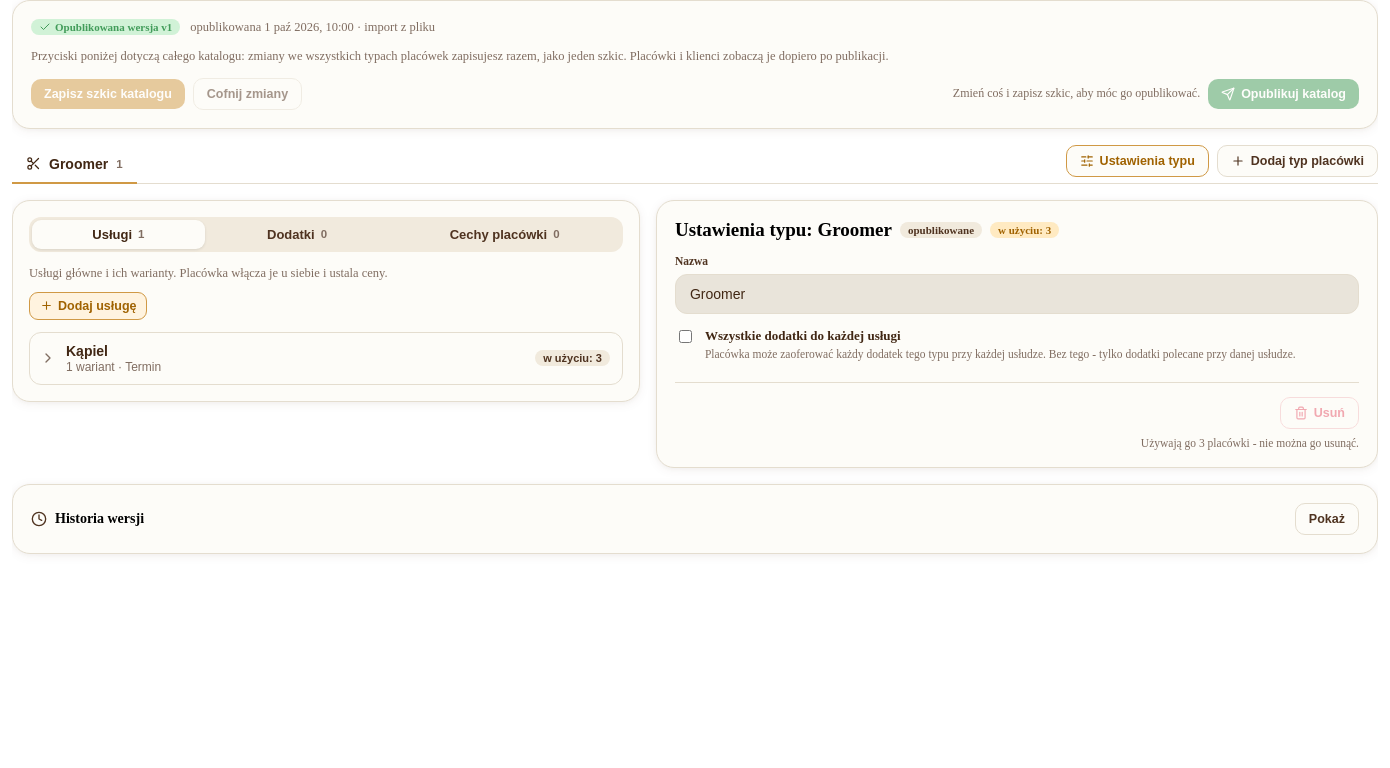
Test: Katalog usług › offers only provider types without a catalog and opens the added one
The width and height of the screenshot is (1390, 768).
Step 1. Click the button "Dodaj typ placówki" → x=1297, y=161, box [1217, 145, 1378, 177]
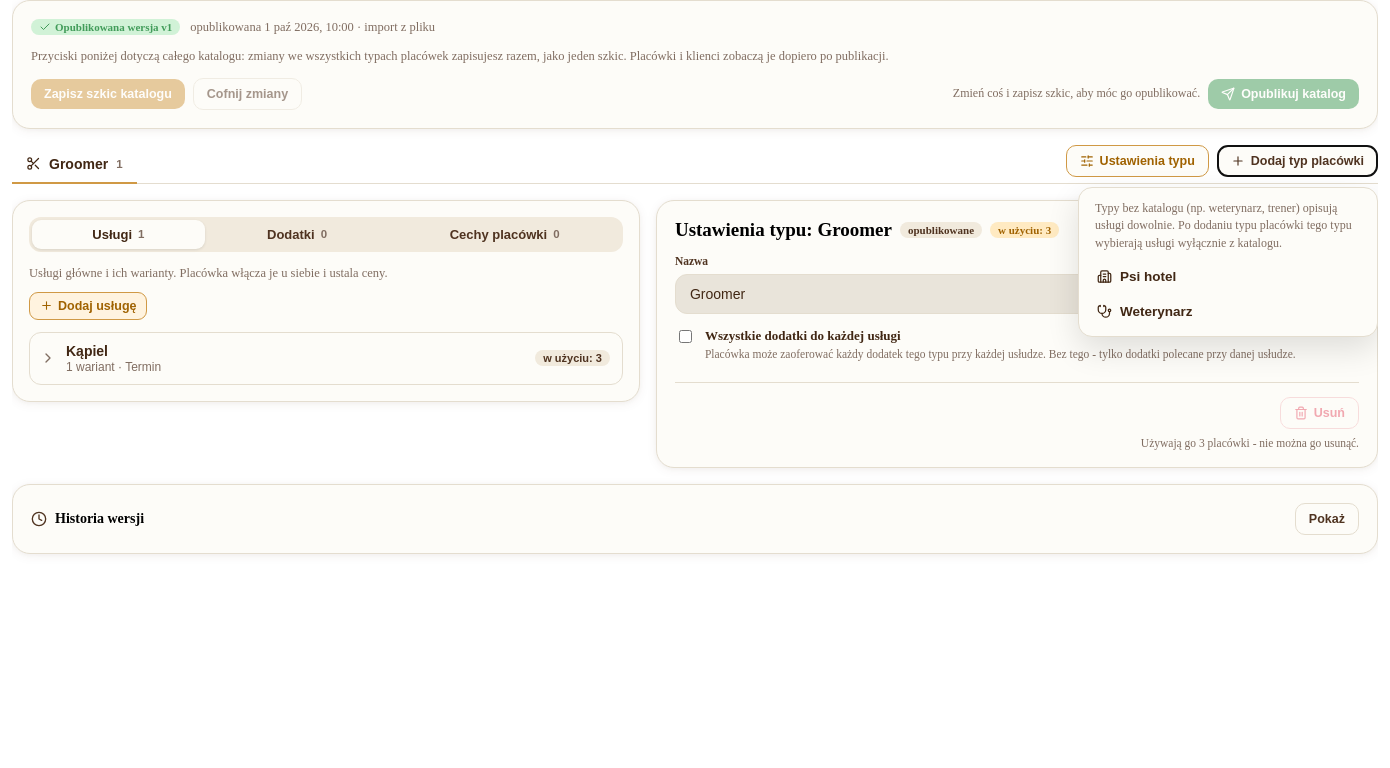
Now the menu items read "Psi hotel", "Weterynarz", in this order
Step 2. Click the menu item "Psi hotel" → x=1148, y=276, box [1087, 260, 1369, 293]
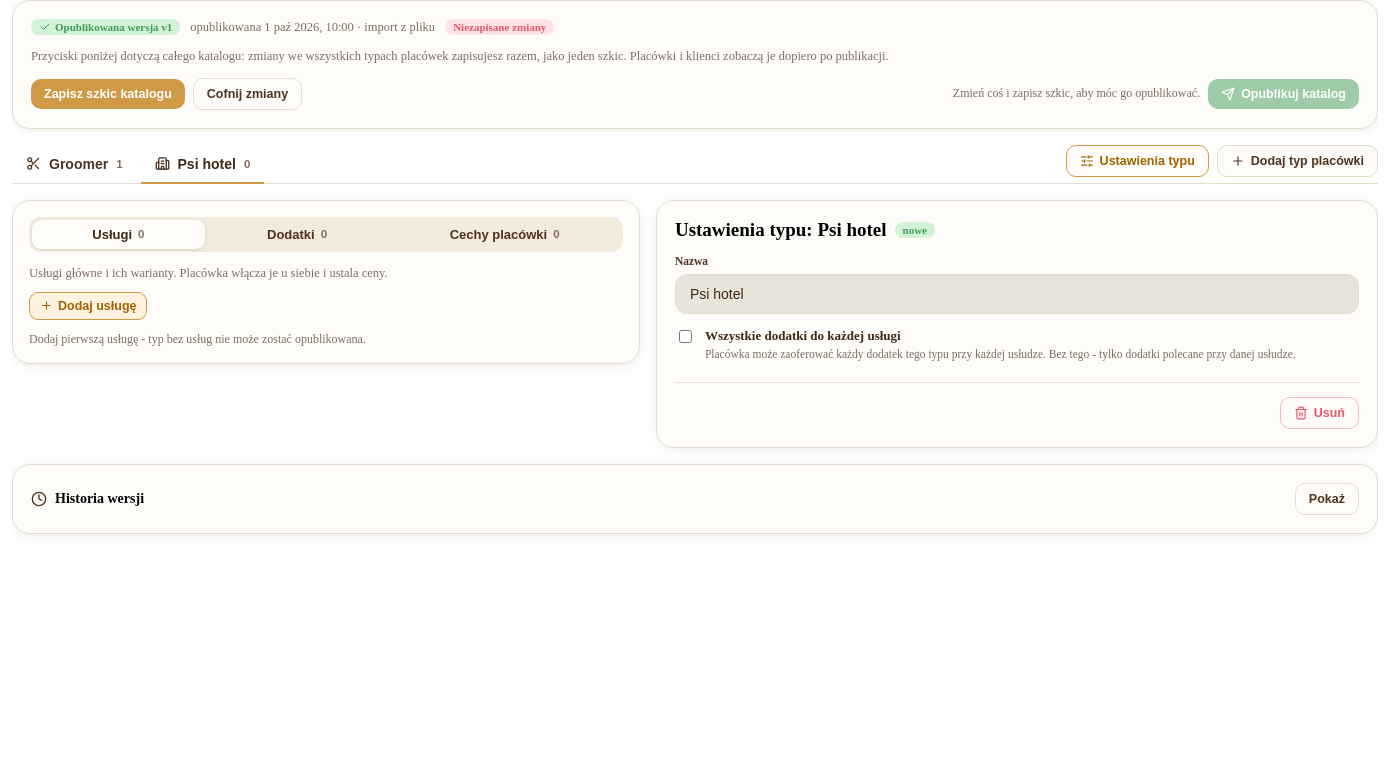
Now the menu is gone
Now the button "Psi hotel 0" is shown, box [140, 146, 264, 184]
Now the heading "Ustawienia typu: Psi hotel" is shown, box [675, 219, 887, 241]
